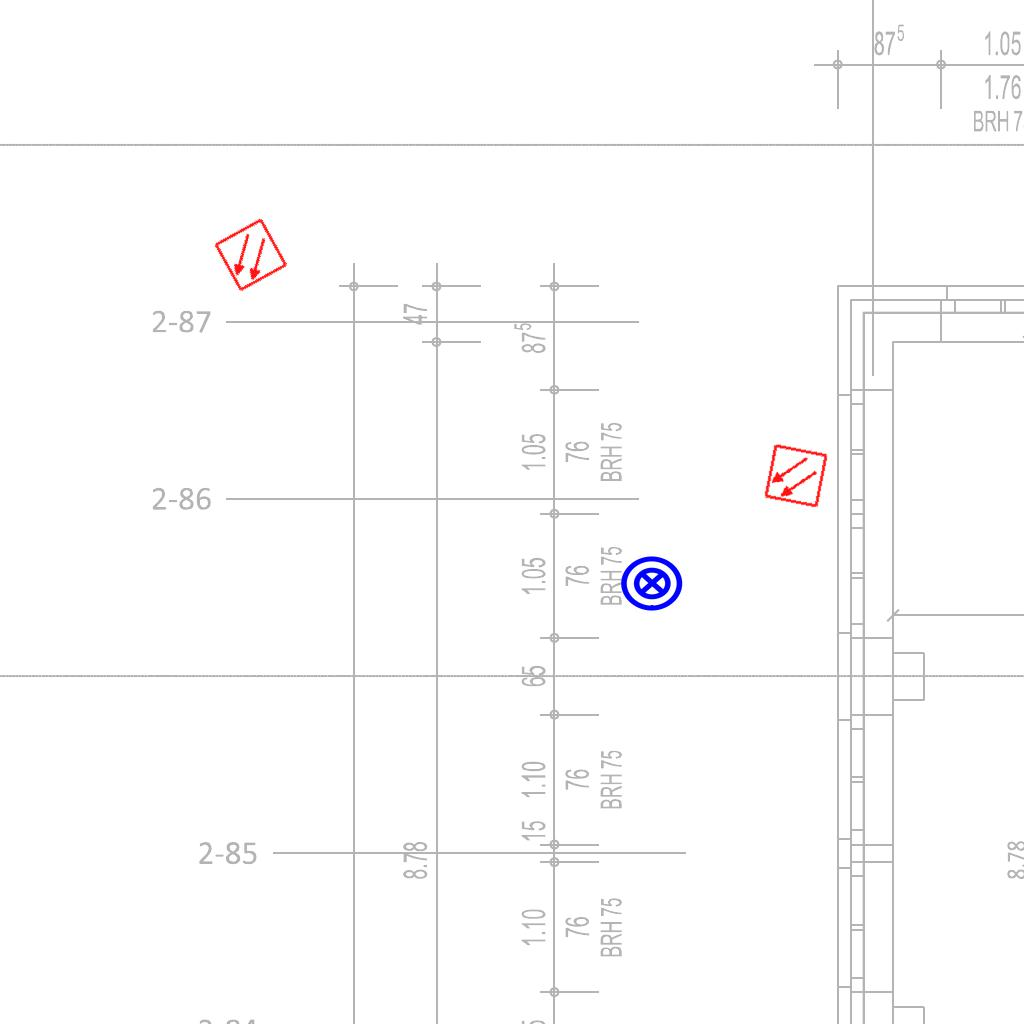RMO_Rauchmelder_optischer: (212, 216, 290, 294), (763, 443, 829, 509)
Taster_beleuchtet: (619, 550, 685, 616)
